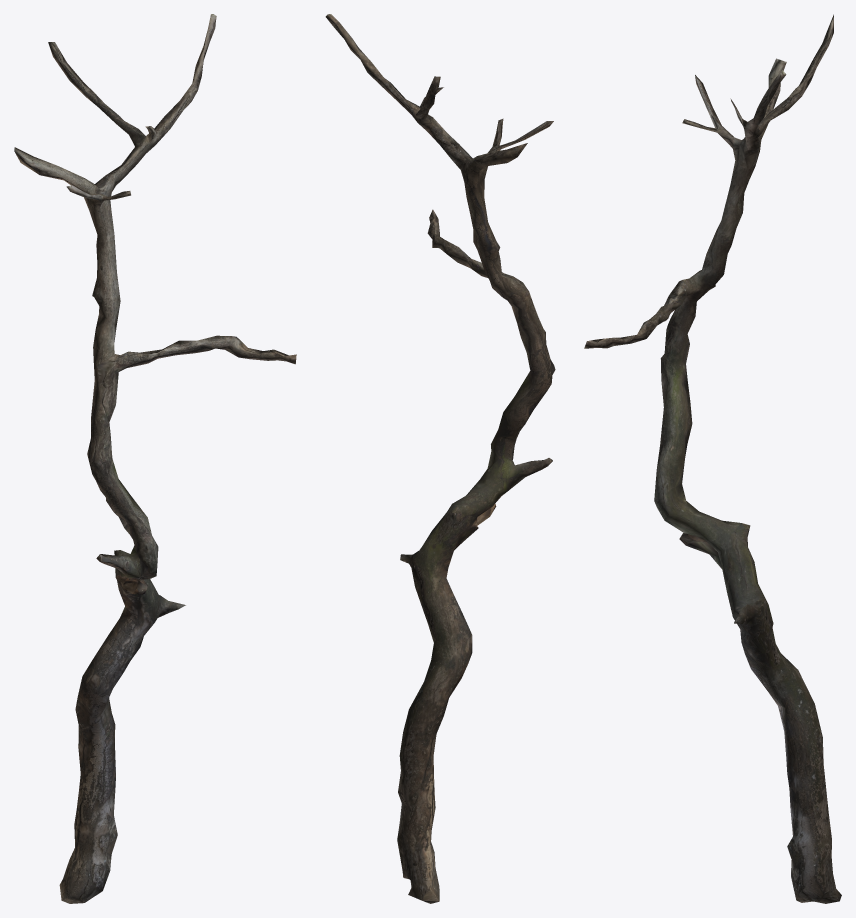
The model's file is dry_branches.glb.
3 renders of one model, left to right at view 1: azimuth 30°, elevation 25°; view 2: azimuth 150°, elevation 25°; view 3: azimuth 270°, elevation 25°, orthographic. The views are drawn at different scales.
Visible parts, largest first — view 1: dry_branches; view 2: dry_branches; view 3: dry_branches.
Part boxes in pixels (box(x1,y1,x2,y2)): dry_branches: box(14, 14, 296, 903); dry_branches: box(325, 14, 555, 903); dry_branches: box(584, 14, 841, 903).
Size of the model in its own units: 0.3186 by 1.3 by 0.3387.
Materials: 1 (1 with a texture image).
